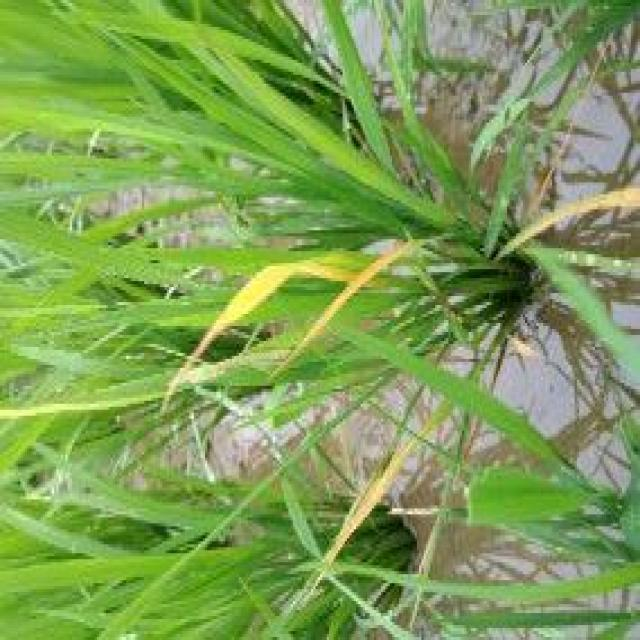Tungro: (178, 250, 407, 373), (334, 426, 424, 562), (532, 162, 640, 267)
